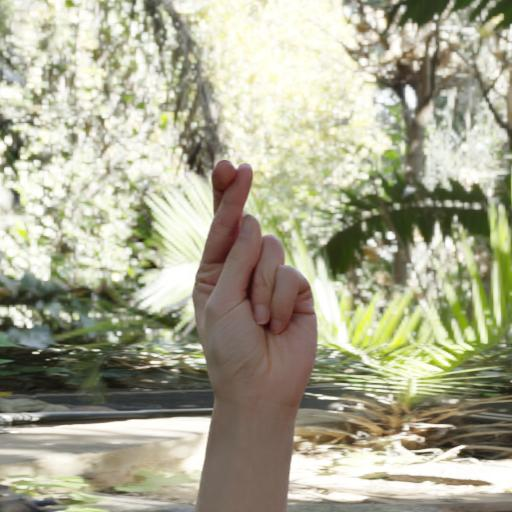R: (190, 158, 318, 422)
